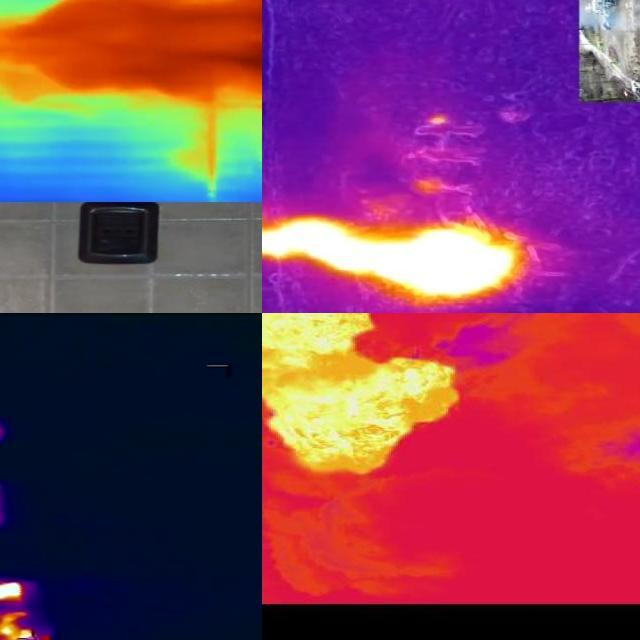fire: (263, 314, 484, 492), (263, 209, 524, 304), (197, 1, 263, 84), (1, 582, 40, 640)
